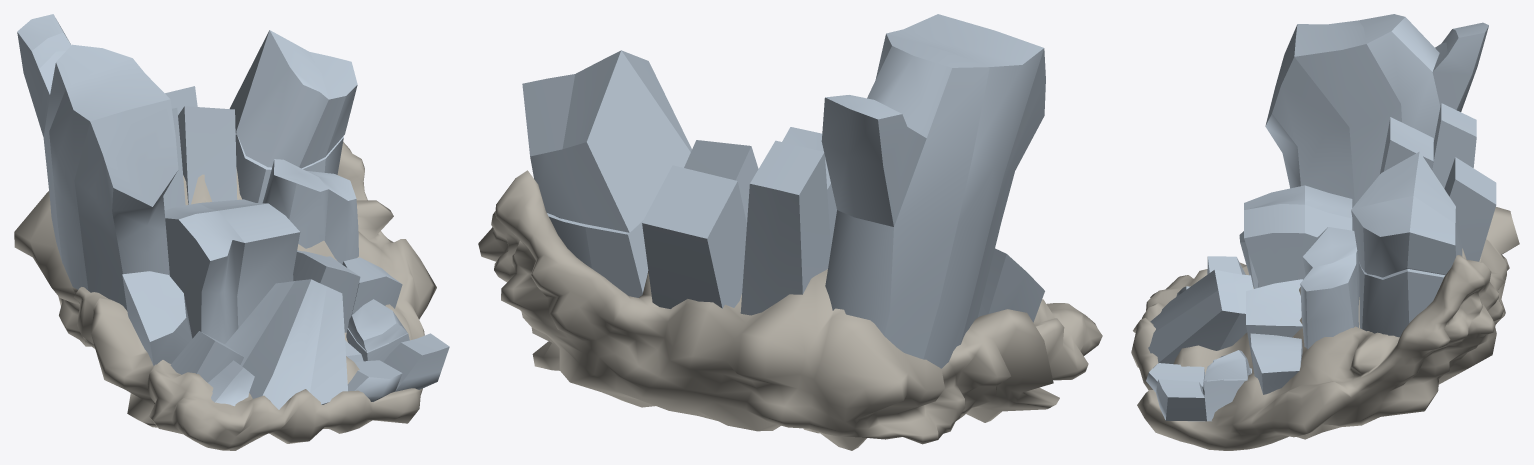
The model's file is ROCLINE_WITH_ALBITE_GEO.fbx.
3 views of the same model, side by side, from view 1: azimuth 30°, elevation 25°; view 2: azimuth 150°, elevation 25°; view 3: azimuth 270°, elevation 25° (orthographic). The views are drawn at different scales.
Visible parts, largest first — view 1: pCube2, pPlane1; view 2: pCube2, pPlane1; view 3: pCube2, pPlane1.
Boxes of the visible parts, box(x1,y1,x2,y2) form: pCube2: box(17, 14, 449, 409); pPlane1: box(14, 142, 436, 450); pCube2: box(522, 14, 1045, 368); pPlane1: box(478, 170, 1102, 450); pCube2: box(1146, 14, 1496, 421); pPlane1: box(1131, 207, 1519, 450).
Size of the model in its own units: 0.9749 by 0.9025 by 0.9714.
